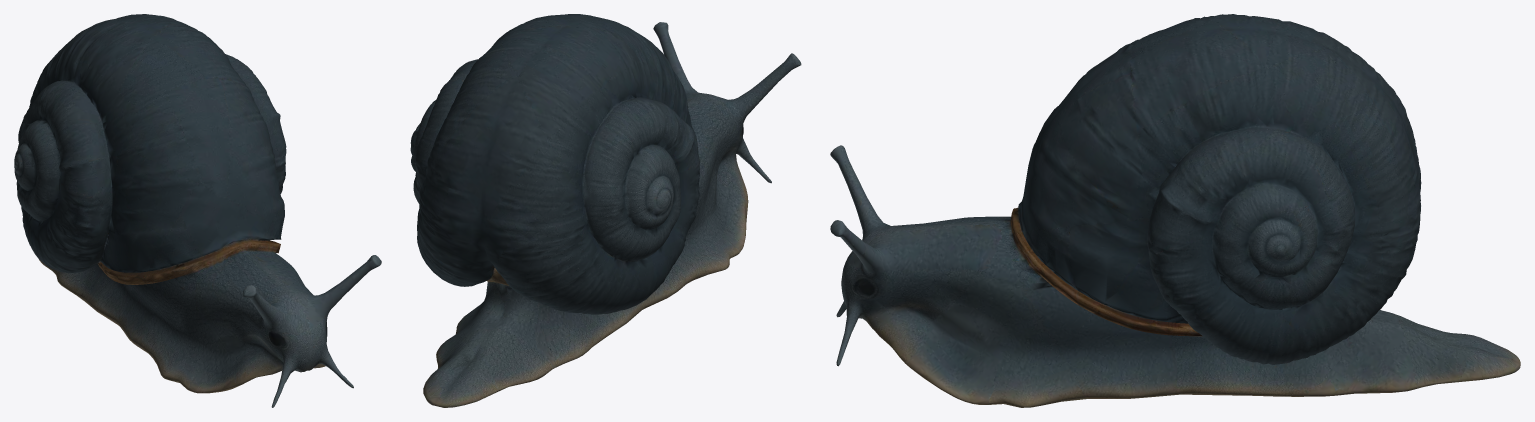
Rendered from moon-shell-colossus.glb.
3 views of the same model, side by side, from view 1: azimuth 30°, elevation 25°; view 2: azimuth 150°, elevation 25°; view 3: azimuth 270°, elevation 25° (orthographic). The views are drawn at different scales.
Bounding box in the file's own units: 0.9486 × 1.03 × 1.9.
Materials: 1 (1 with a texture image).
